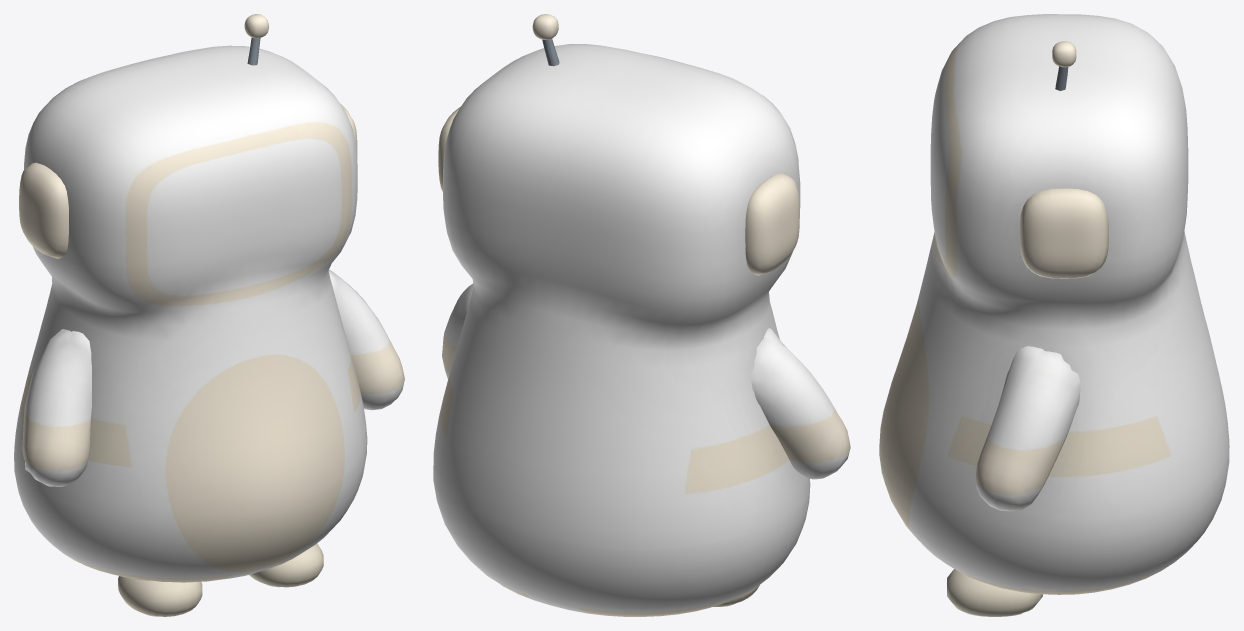
The model's file is pisos.glb.
3 views of the same model, side by side, from view 1: azimuth 30°, elevation 25°; view 2: azimuth 150°, elevation 25°; view 3: azimuth 270°, elevation 25° (orthographic). The views are drawn at different scales.
Parts seen in each view (by area): view 1: cuerpo, brazoI, brazoD, cabeza, copete; view 2: cuerpo, brazoI, cabeza, brazoD, copete; view 3: cuerpo, brazoD, cabeza, copete.
Part boxes in pixels (bbox=[...]): cuerpo: bbox=[14, 45, 367, 616]; brazoI: bbox=[22, 329, 91, 486]; brazoD: bbox=[328, 270, 404, 410]; cabeza: bbox=[19, 104, 357, 258]; copete: bbox=[244, 14, 268, 65]; cuerpo: bbox=[433, 44, 810, 616]; brazoI: bbox=[751, 328, 850, 479]; cabeza: bbox=[438, 106, 799, 275]; brazoD: bbox=[442, 283, 473, 379]; copete: bbox=[532, 14, 559, 66]; cuerpo: bbox=[879, 14, 1229, 616]; brazoD: bbox=[975, 346, 1080, 511]; cabeza: bbox=[1019, 188, 1108, 278]; copete: bbox=[1052, 41, 1076, 90].
Size of the model in its own units: 1.85 by 2.53 by 1.41.
Materials: 3 (3 with a texture image).
